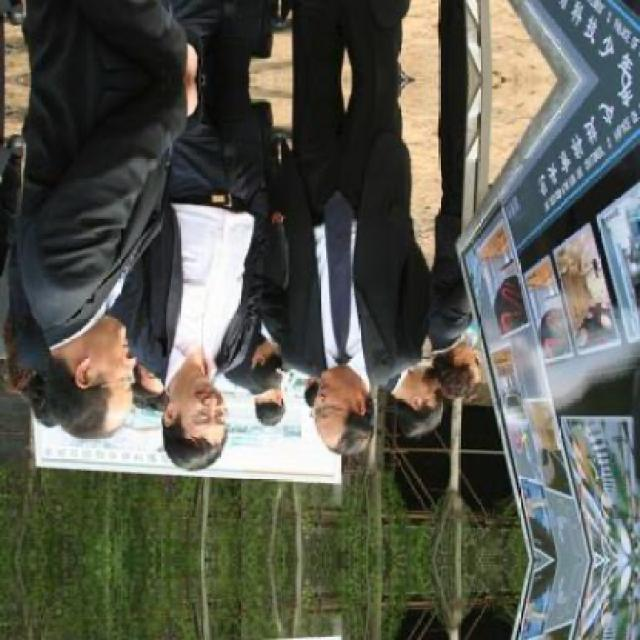sin casco: (43, 325, 139, 437), (143, 399, 241, 495), (304, 375, 416, 457)
